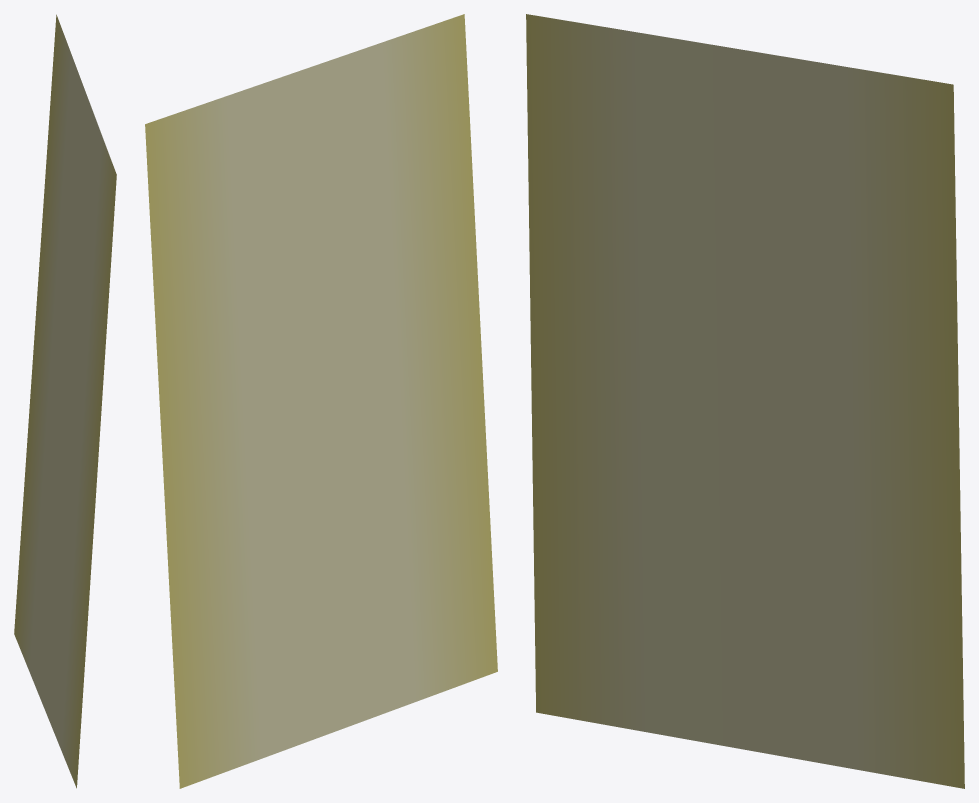
Rendered from WindowRight1_1.glb.
3 renders of one model, left to right at view 1: azimuth 30°, elevation 25°; view 2: azimuth 150°, elevation 25°; view 3: azimuth 270°, elevation 25°, orthographic. The views are drawn at different scales.
Parts seen in each view (by area): view 1: WindowRight1; view 2: WindowRight1; view 3: WindowRight1.
Part boxes in pixels (x1,y1,x2,y2): WindowRight1: (14,14,116,788); WindowRight1: (145,14,497,788); WindowRight1: (526,14,964,788).
Size of the model in its own units: 0.3395 by 1.28 by 0.699.
